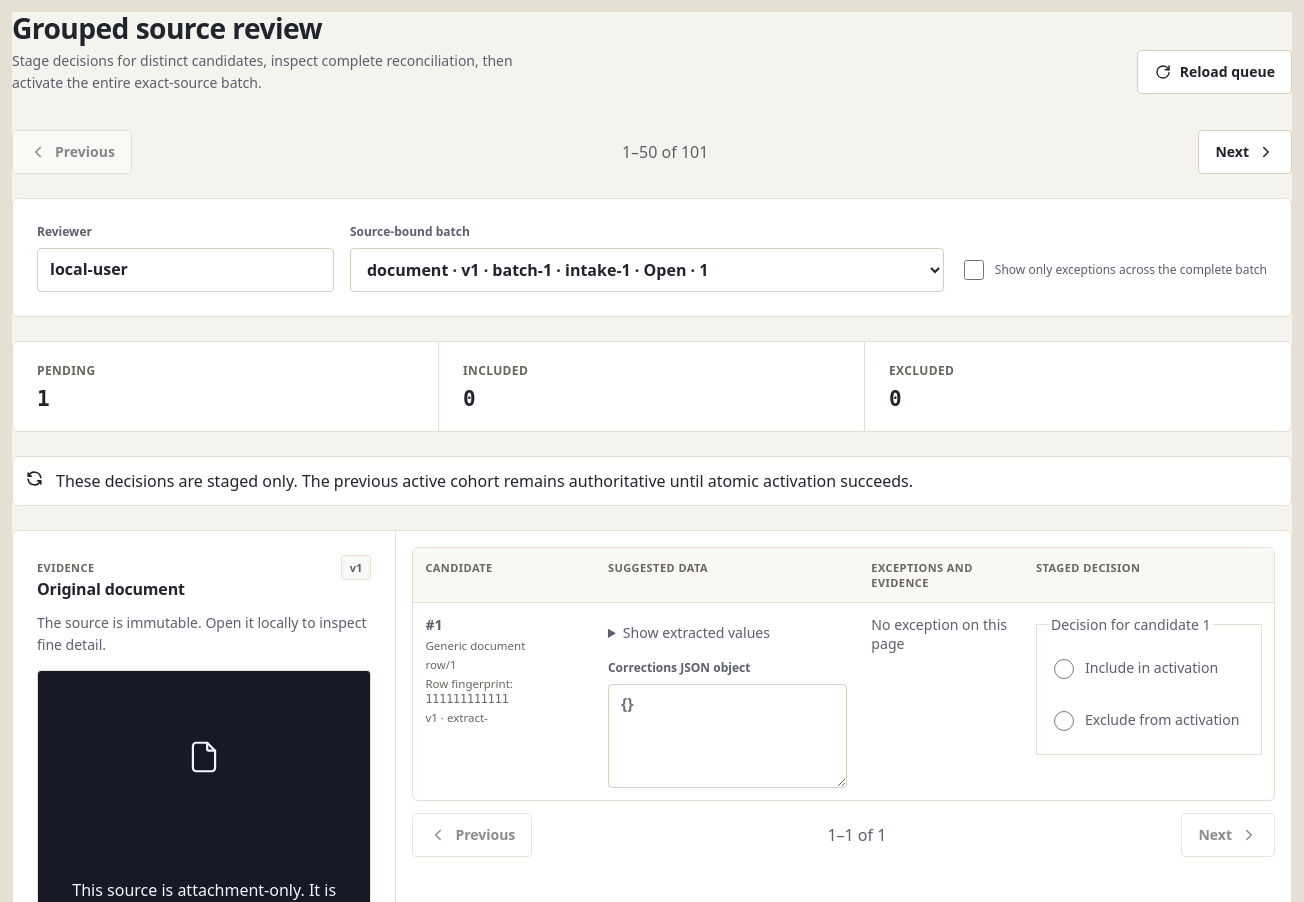
Test: GroupedReviewWorkspace › pages through the server batch cohort to reach an actionable batch beyond the first 100
Check: the text "row/1" is shown, box x1=425 y1=657 x2=457 y2=672
Step 1. Click the button "Next" in the row of "1–50 of 101" → point(1245, 152), box x1=1198 y1=130 x2=1292 y2=174
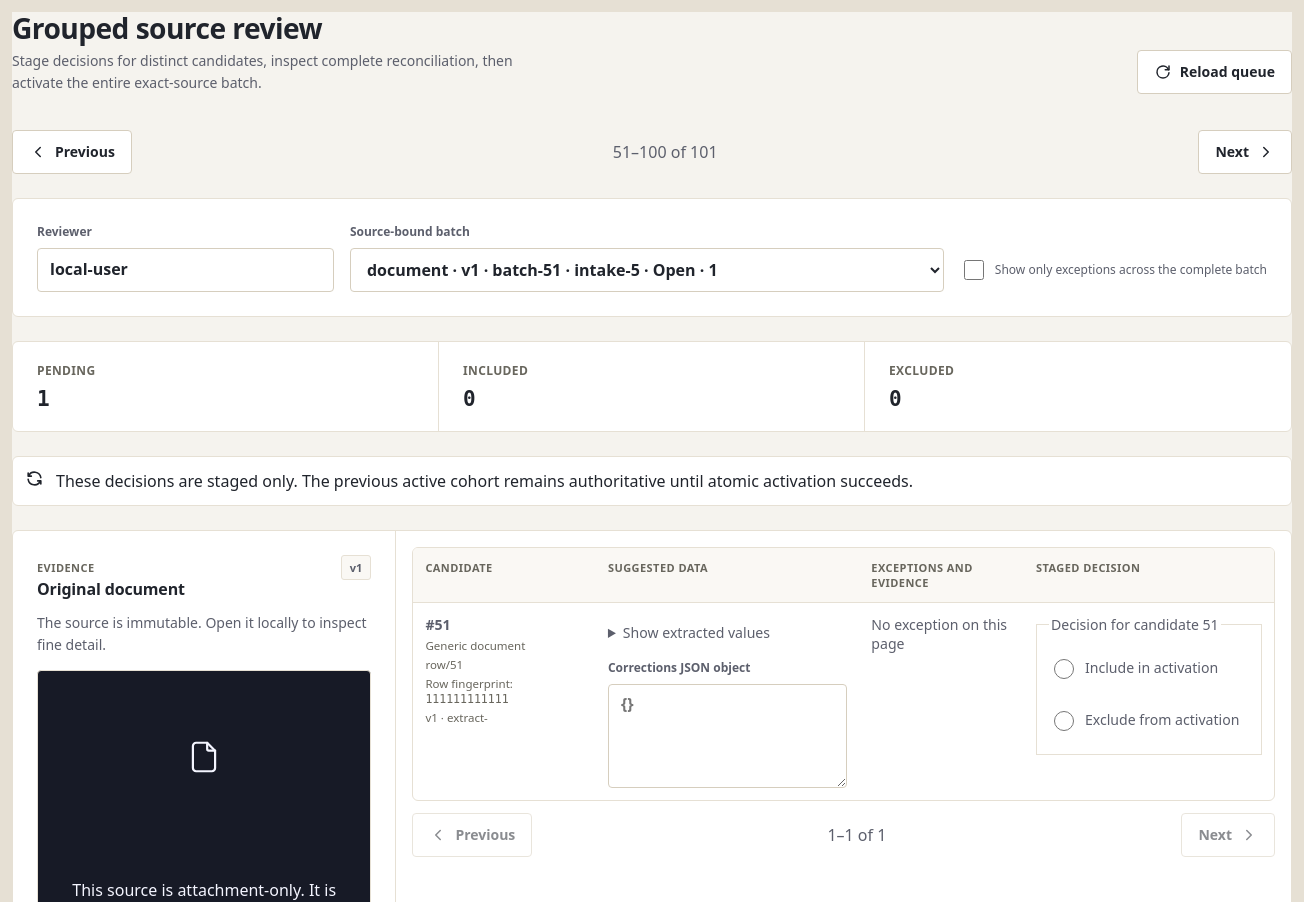
Check: the text "row/51" is shown, box x1=425 y1=657 x2=463 y2=672
Step 2. Click the button "Next" in the row of "51–100 of 101" → point(1245, 152), box x1=1198 y1=130 x2=1292 y2=174
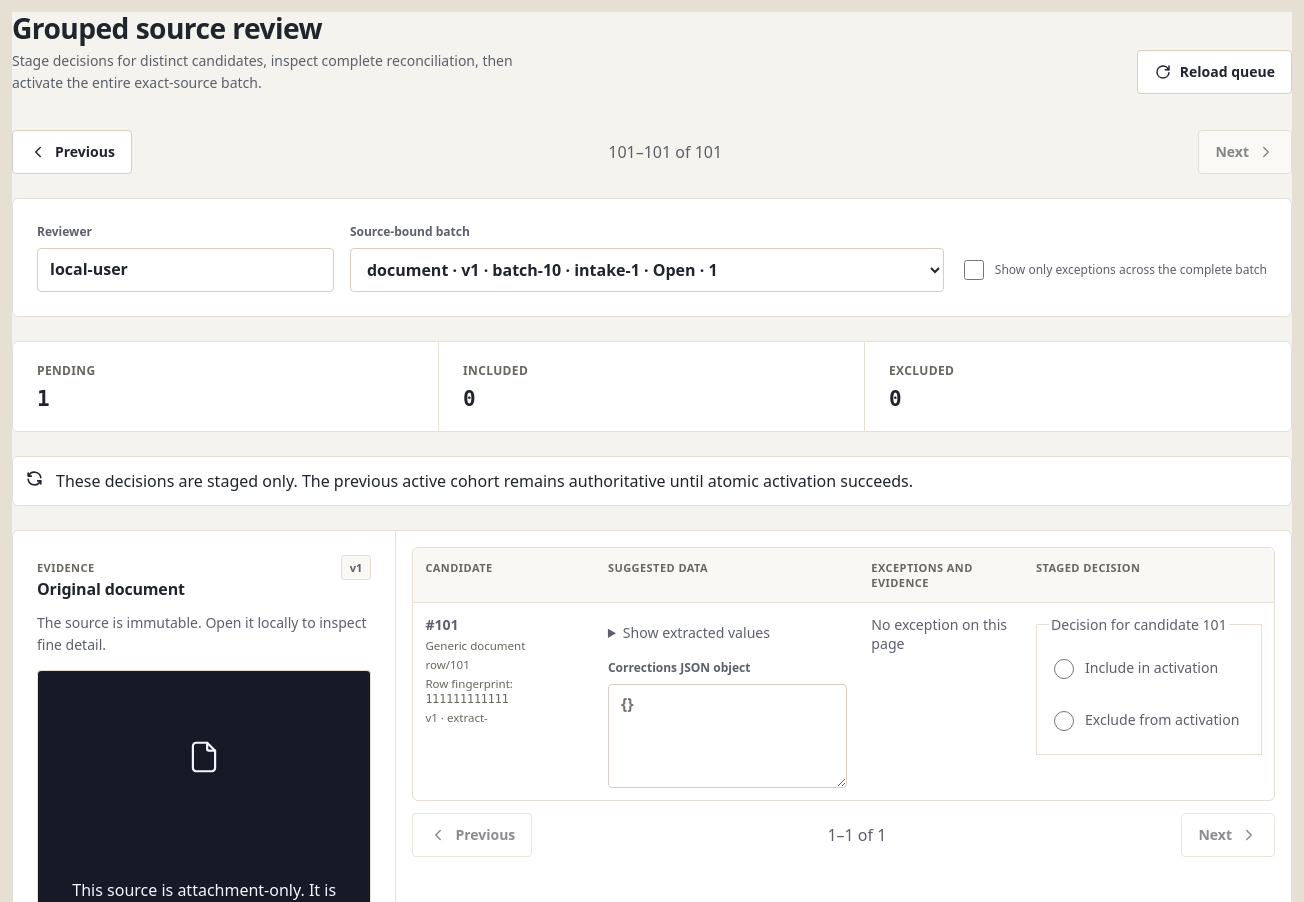
Check: the text "row/101" is shown, box x1=425 y1=657 x2=470 y2=672
Check: the dropdown labelled "Source-bound batch" shows "document · v1 · batch-10 · intake-1 · Open · 1", box x1=350 y1=248 x2=944 y2=292
Check: the text "101–101 of 101" is shown, box x1=608 y1=141 x2=722 y2=163
